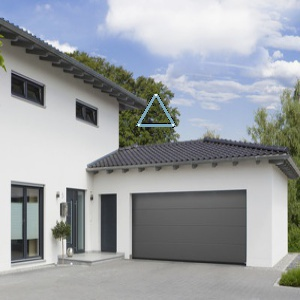triangle: (134, 89, 179, 132)
